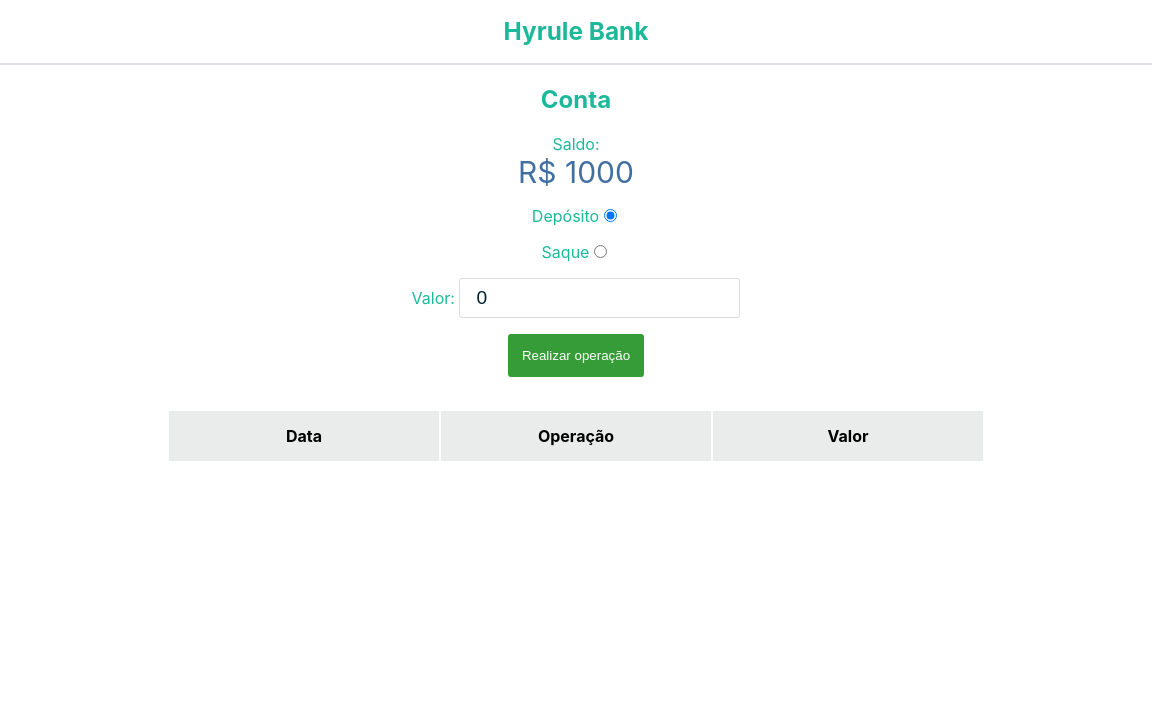
Test case: Testing App › should app Flow
Expected: the text "R$ 1000" is shown, [518,154,634,190]
Click the radio button labelled "Saque" at (601, 251), box [594,244,607,258]
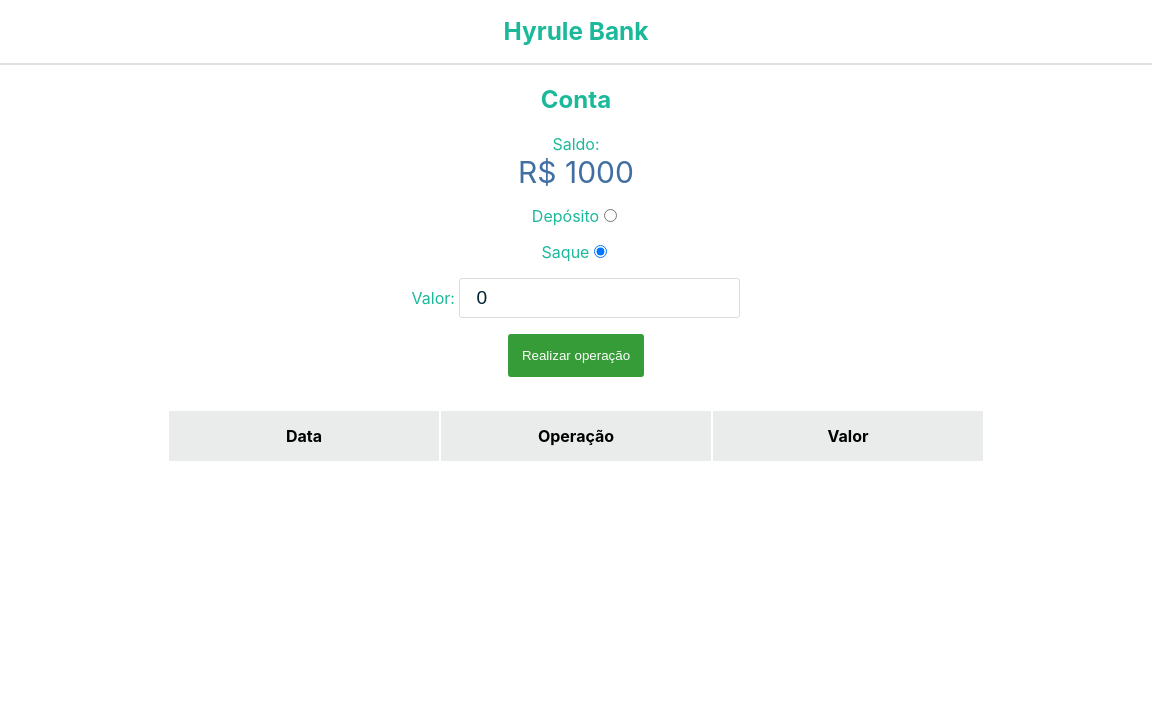
Replace the text in the field with test id "value" with "10" at (600, 298), box [459,278,740,318]
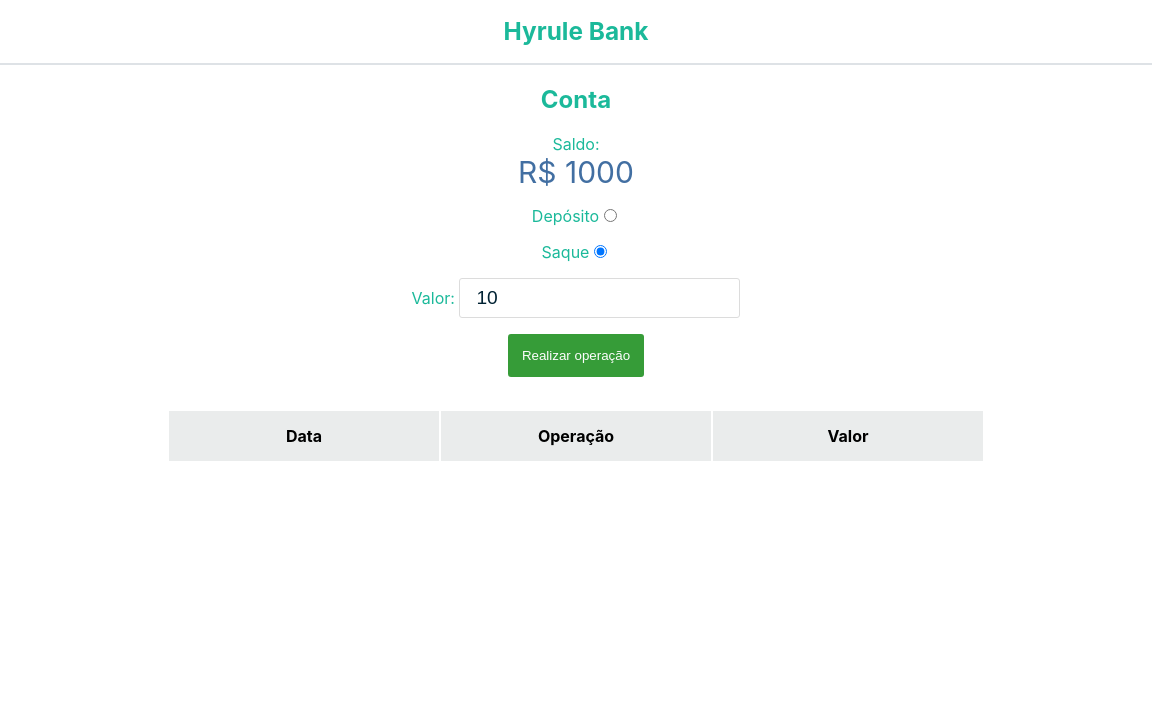
Click the button "Realizar operação" at (576, 355), box [508,334,644,377]
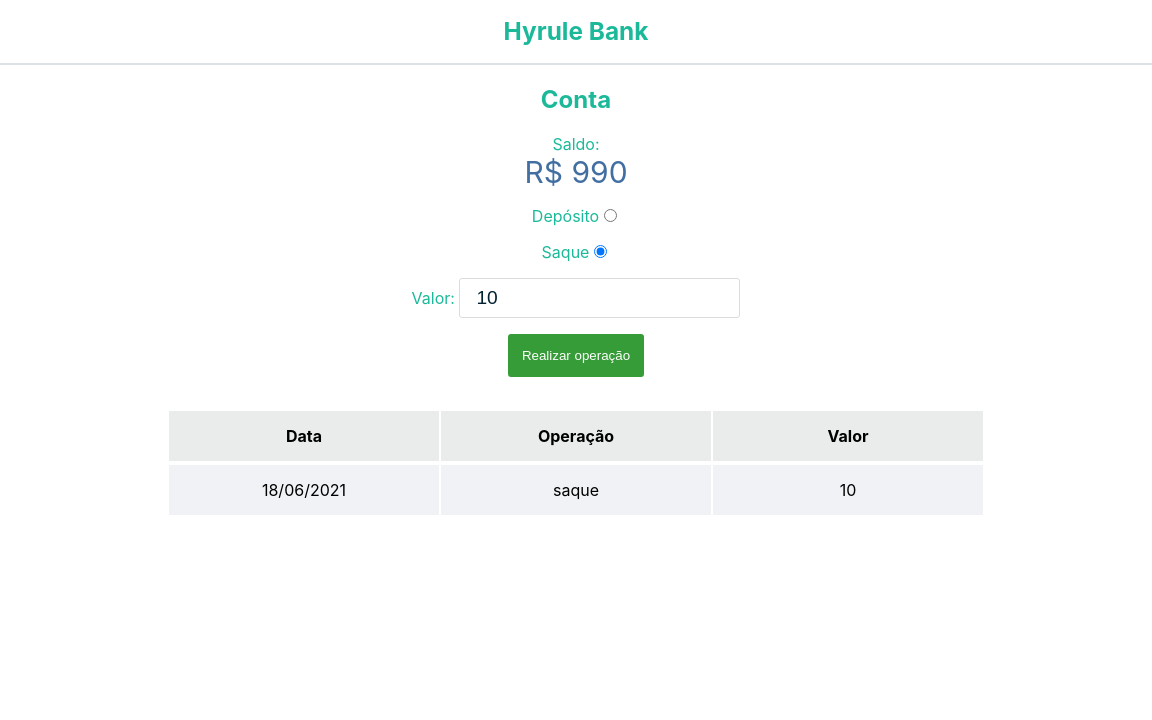
Result: the text "R$ 1000" reads "R$ 990" at [524,154,628,190]
